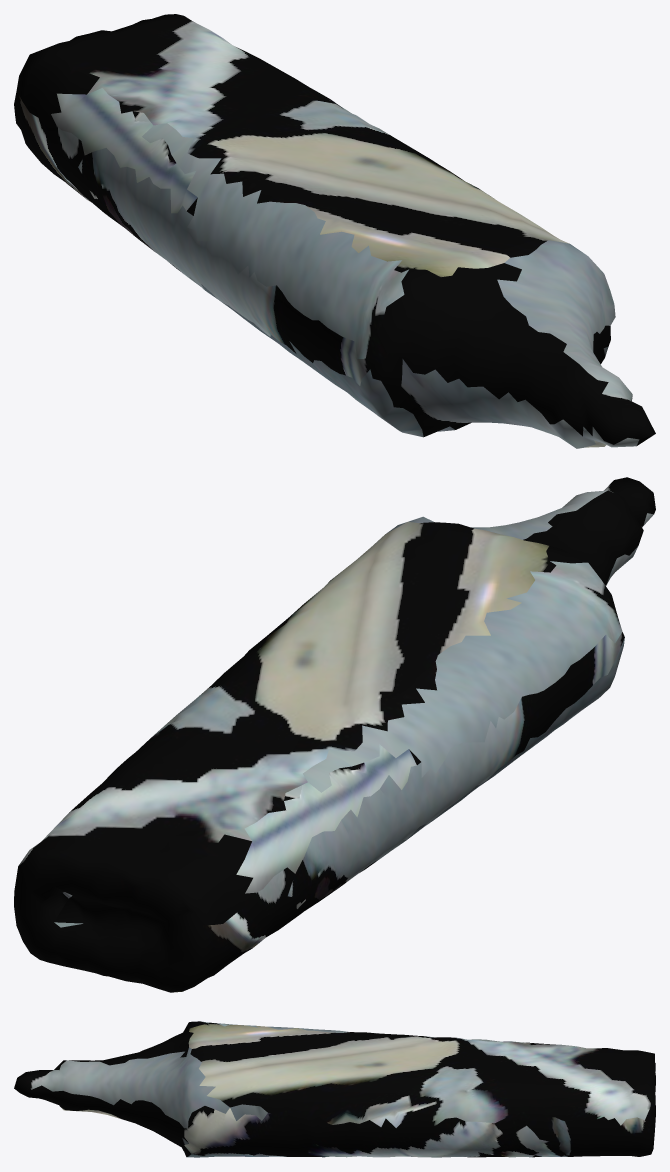
Rendered from scan_align.obj.
The picture shows the model from 3 angles, top to bottom: view 1: azimuth 30°, elevation 25°; view 2: azimuth 150°, elevation 25°; view 3: azimuth 270°, elevation 25°; orthographic projection. The views are drawn at different scales.
Bounding box in the file's own units: 0.0273 × 0.0168 × 0.1018.
